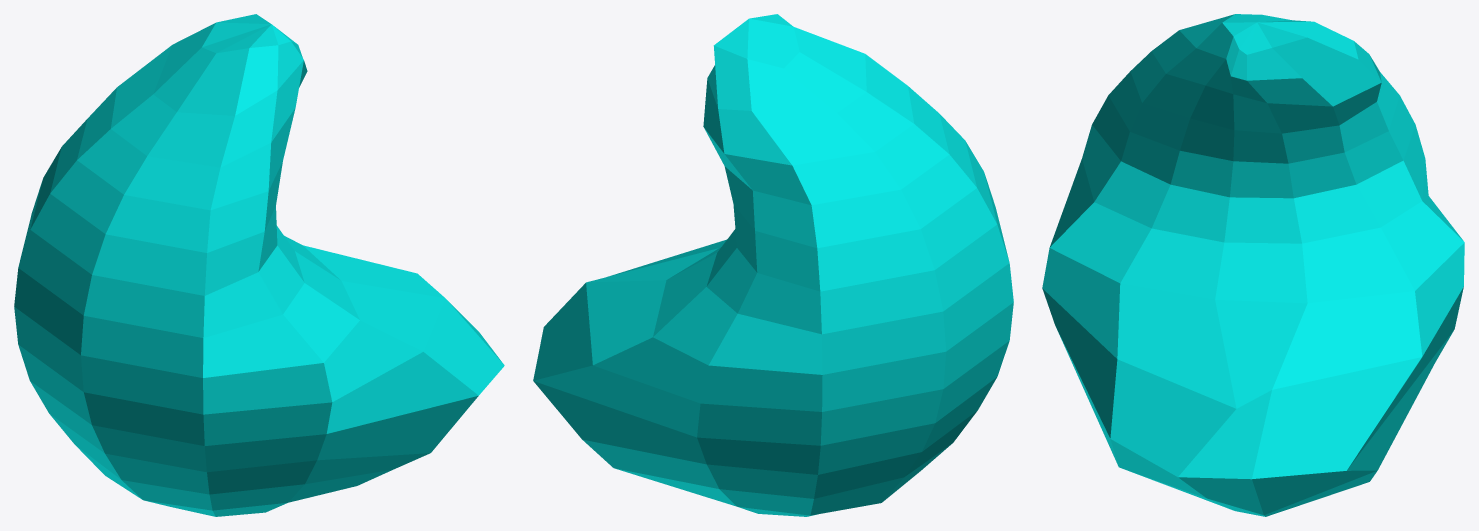
The model's file is Slime.fbx.
3 views of the same model, side by side, from view 1: azimuth 30°, elevation 25°; view 2: azimuth 150°, elevation 25°; view 3: azimuth 270°, elevation 25° (orthographic).
Parts seen in each view (by area): view 1: Sphere; view 2: Sphere; view 3: Sphere.
Part boxes in pixels (bbox=[...]): Sphere: bbox=[14, 14, 504, 516]; Sphere: bbox=[533, 14, 1013, 516]; Sphere: bbox=[1042, 14, 1464, 516].
Size of the model in its own units: 230 by 232 by 195.
